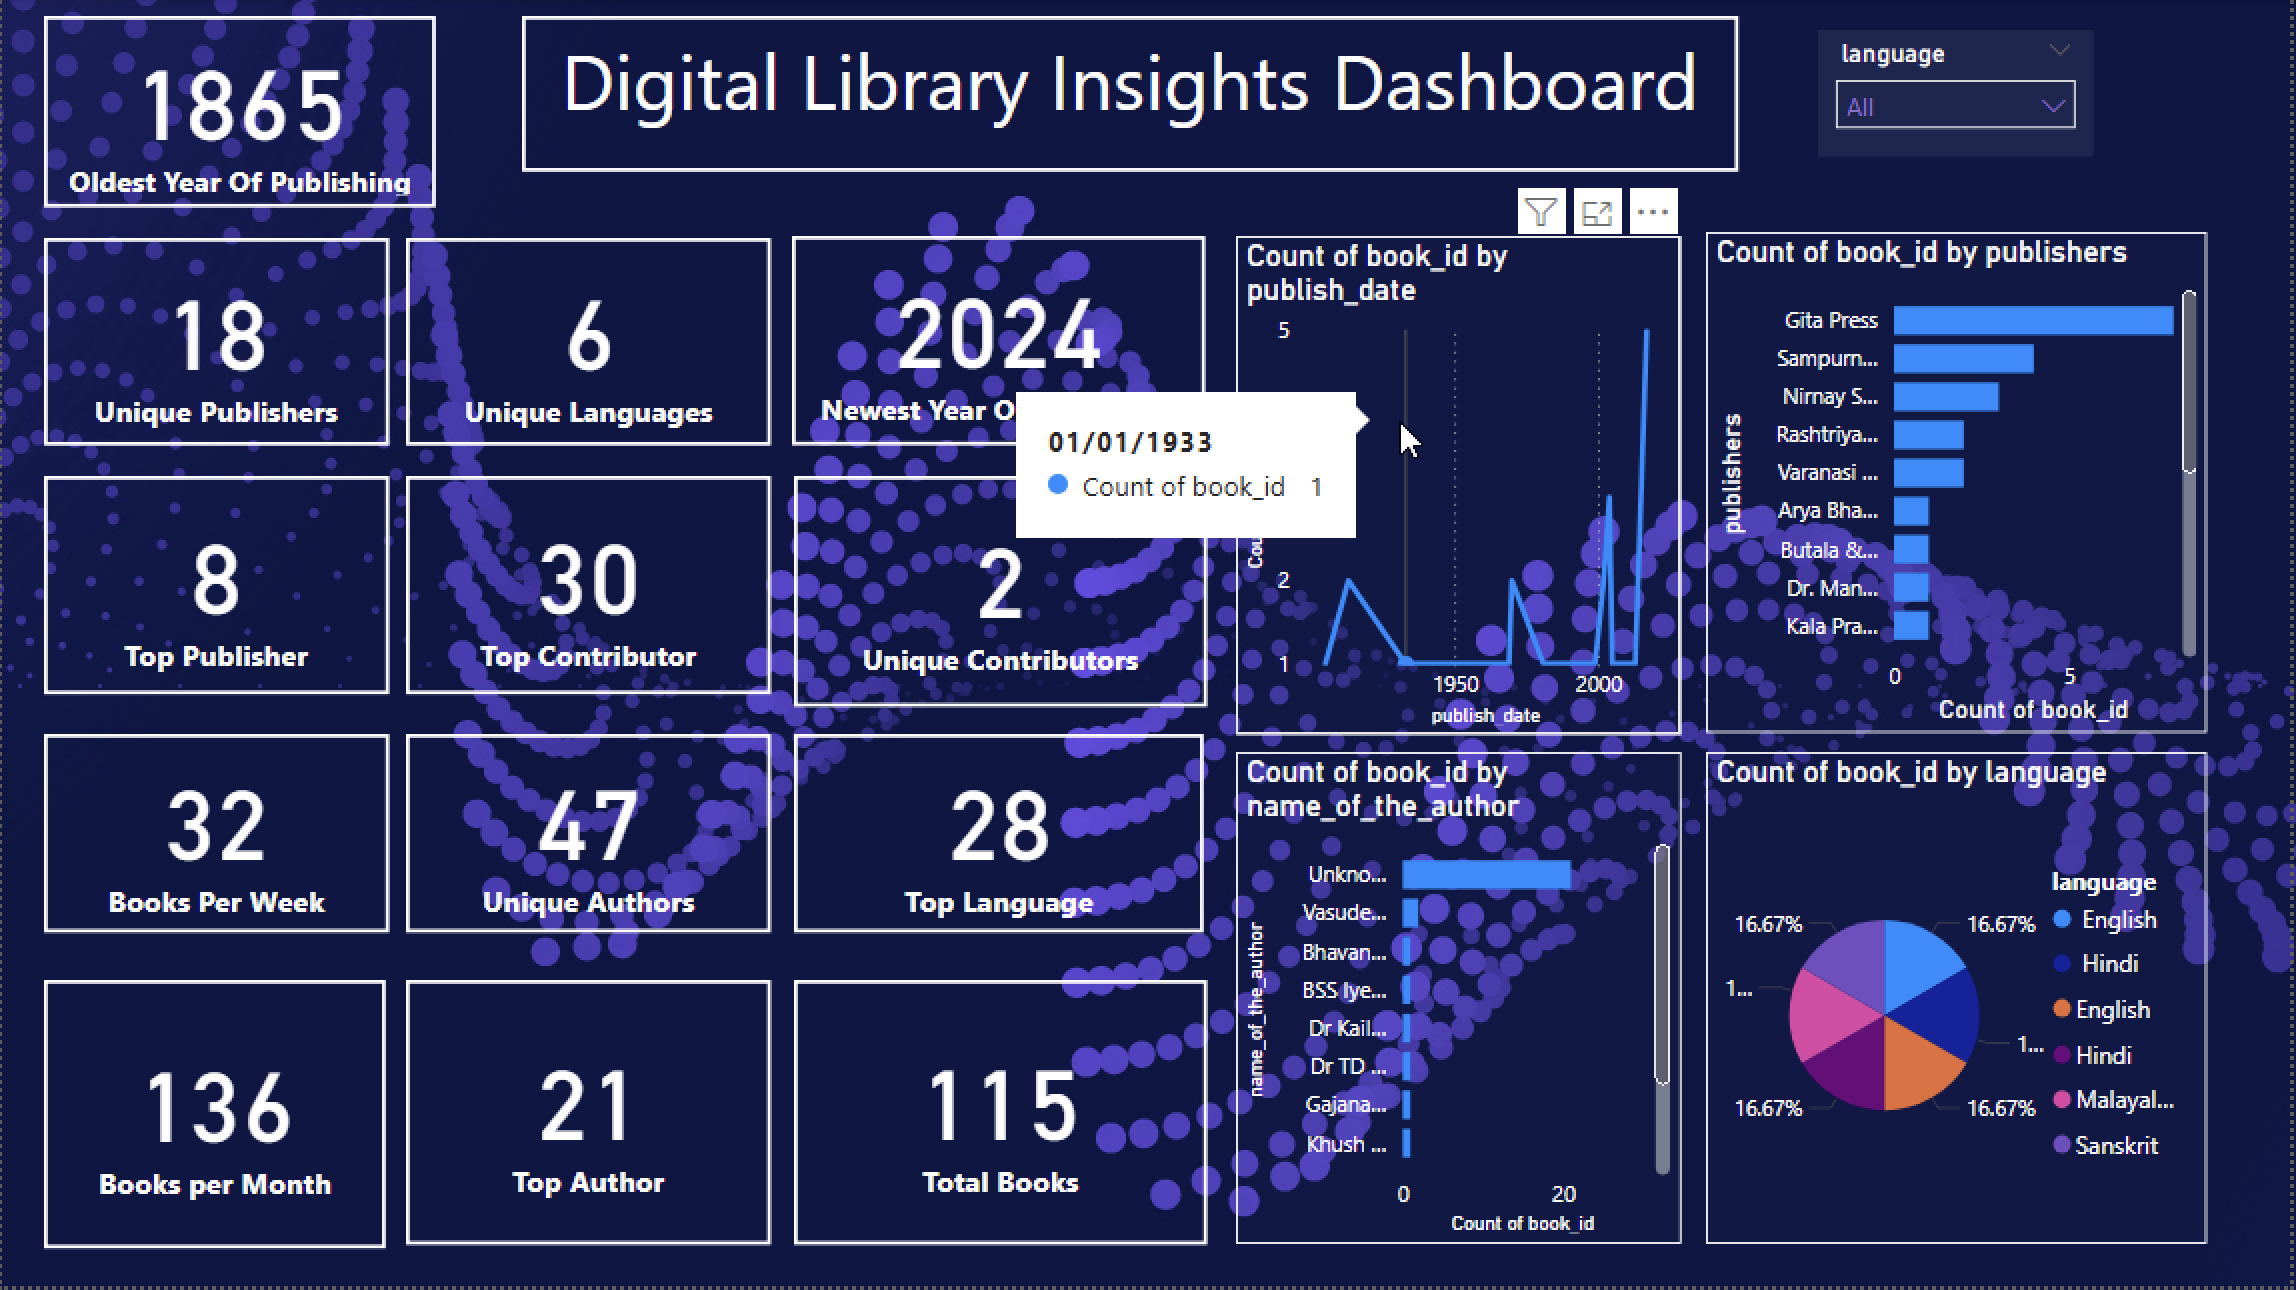

Layout of this report page (visuals, bound fields, positions):
{"tool":"powerbi","page":{"name":"Page 1","canvas":[1280,720],"ordinal":0},"visuals":[{"type":"textbox","box":[291.2,10.3,679.9,87.2],"z":0},{"type":"card","fields":{"Values":["Main file.Total Books"]},"box":[442.4,549.5,230.8,147.9],"z":3000},{"type":"card","fields":{"Values":["Main file.Oldest Year Of Publishing"]},"box":[22.9,10.2,219.3,107.1],"z":4000},{"type":"card","fields":{"Values":["Main file.Top Author"]},"box":[225.7,549.5,204,147.9],"z":5000},{"type":"card","fields":{"Values":["Main file.Newest Year Of Publishing"]},"box":[441.1,132.6,230.8,117.3],"z":7000},{"type":"card","fields":{"Values":["Main file.Unique Authors"]},"box":[225.7,411.8,204,110.9],"z":8000},{"type":"card","fields":{"Values":["Main file.Unique Contributors"]},"box":[442.4,267.7,230.8,128.8],"z":8001},{"type":"card","fields":{"Values":["Main file.Top Publisher"]},"box":[22.9,267.7,192.5,122.4],"z":8002},{"type":"card","fields":{"Values":["DateTable.Unique Publishers"]},"box":[22.9,133.9,192.5,116],"z":8003},{"type":"card","fields":{"Values":["Main file.Top Contributor"]},"box":[225.7,267.7,204,122.4],"z":8004},{"type":"card","fields":{"Values":["Main file.Top Language"]},"box":[442.4,411.8,229.5,110.9],"z":8005},{"type":"card","fields":{"Values":["Main file.Unique Languages"]},"box":[225.7,133.9,204,116],"z":8006},{"type":"card","fields":{"Values":["Main file.Books Per Week"]},"box":[22.9,411.8,192.5,110.9],"z":8008},{"type":"card","fields":{"Values":["Main file.Books per Month"]},"box":[22.9,549.5,191.2,150.4],"z":8009},{"type":"lineChart","fields":{"Category":["Main file.publish_date"],"Y":["Main file.book_id"]},"box":[689.7,132.6,248.6,279.2],"z":8010},{"type":"clusteredBarChart","fields":{"Category":["Main file.publishers"],"Y":["Main file.book_id"]},"box":[952.4,131.3,280.5,280.5],"z":8011},{"type":"clusteredBarChart","fields":{"Category":["Main file.name_of_the_author"],"Y":["Main file.book_id"]},"box":[689.7,422,248.6,275.4],"z":8012},{"type":"pieChart","fields":{"Category":["Languages.language"],"Y":["Main file.book_id"]},"box":[952.4,422,280.5,275.4],"z":8013},{"type":"slicer","fields":{"Values":["Languages.language"]},"box":[1014.8,17.8,154.3,71.4],"z":8014}]}

Visuals, with their boxes in screenshot pixels (x1, y1, x2, y2), scaled from the page's 1280x720 canvas onto the 2296x1290 screenshot:
textbox: l=522, t=18, r=1742, b=175
card - Main file.Total Books: l=794, t=985, r=1208, b=1250
card - Main file.Oldest Year Of Publishing: l=41, t=18, r=434, b=210
card - Main file.Top Author: l=405, t=985, r=771, b=1250
card - Main file.Newest Year Of Publishing: l=791, t=238, r=1205, b=448
card - Main file.Unique Authors: l=405, t=738, r=771, b=937
card - Main file.Unique Contributors: l=794, t=480, r=1208, b=710
card - Main file.Top Publisher: l=41, t=480, r=386, b=699
card - DateTable.Unique Publishers: l=41, t=240, r=386, b=448
card - Main file.Top Contributor: l=405, t=480, r=771, b=699
card - Main file.Top Language: l=794, t=738, r=1205, b=937
card - Main file.Unique Languages: l=405, t=240, r=771, b=448
card - Main file.Books Per Week: l=41, t=738, r=386, b=937
card - Main file.Books per Month: l=41, t=985, r=384, b=1254
lineChart - Main file.publish_date x Main file.book_id: l=1237, t=238, r=1683, b=738
clusteredBarChart - Main file.publishers x Main file.book_id: l=1708, t=235, r=2212, b=738
clusteredBarChart - Main file.name_of_the_author x Main file.book_id: l=1237, t=756, r=1683, b=1250
pieChart - Languages.language x Main file.book_id: l=1708, t=756, r=2212, b=1250
slicer - Languages.language: l=1820, t=32, r=2097, b=160
